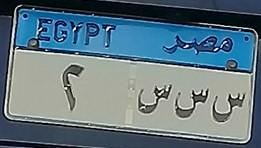2: (56, 61, 92, 114)
seen: (173, 82, 210, 125), (137, 78, 173, 121), (210, 87, 247, 127)
